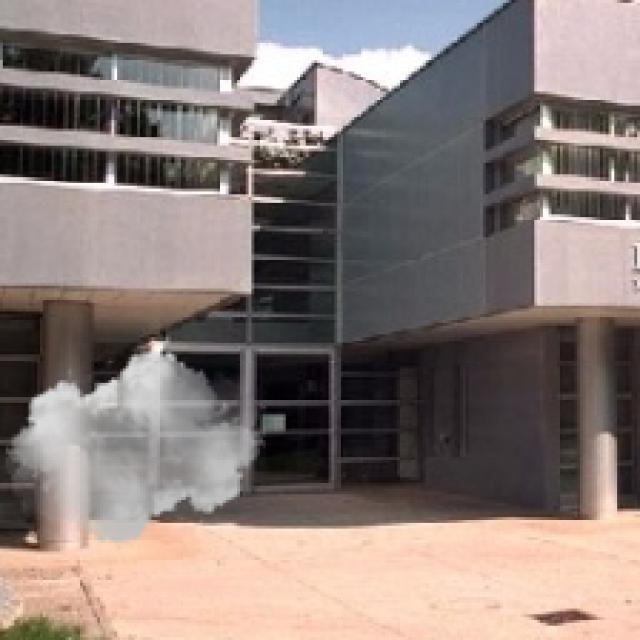Smoke: (6, 343, 266, 551)
